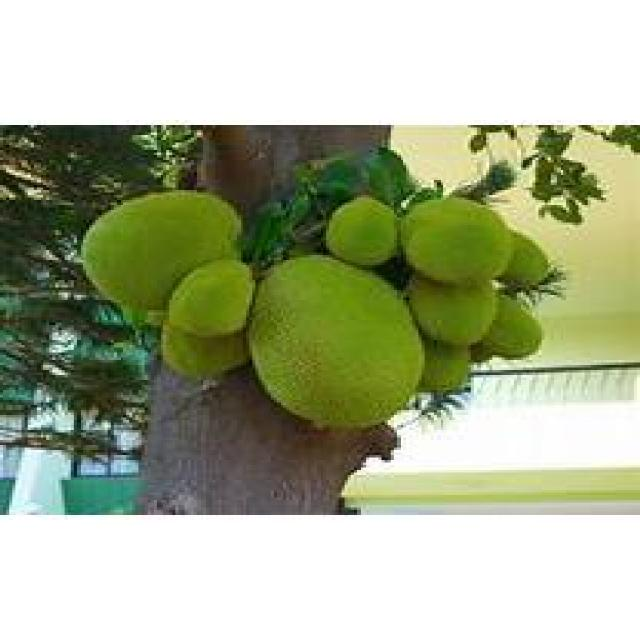Fruit: (234, 238, 443, 448)
